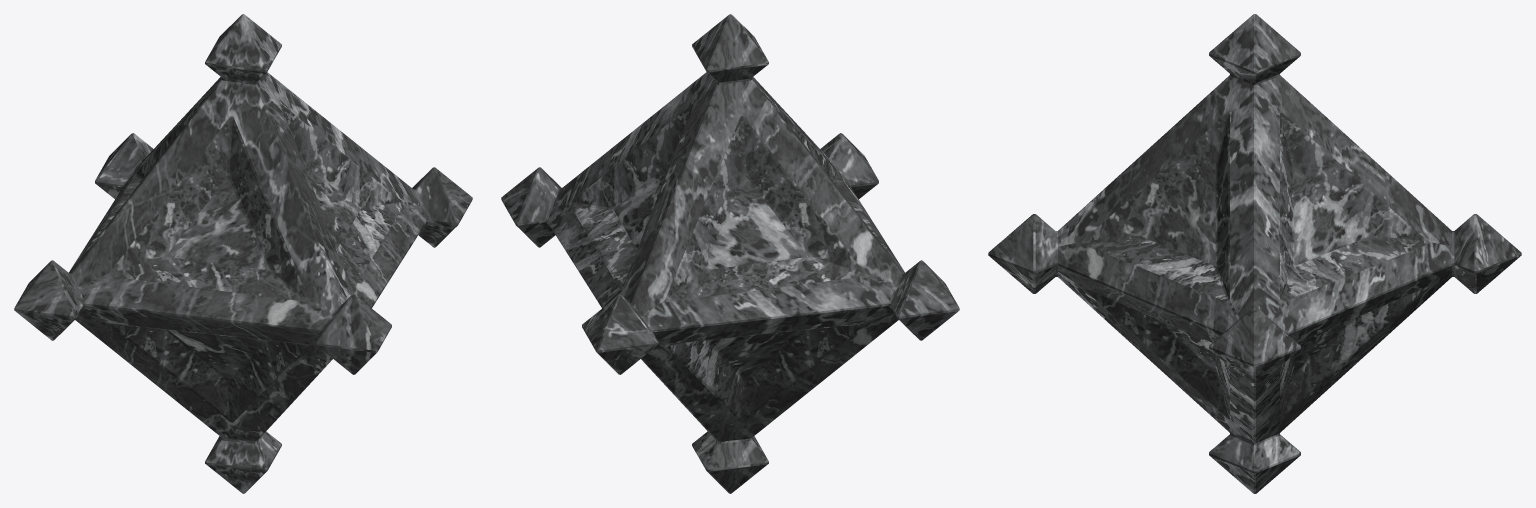
Rendered from bishop.glb.
3 views of the same model, side by side, from view 1: azimuth 30°, elevation 25°; view 2: azimuth 150°, elevation 25°; view 3: azimuth 270°, elevation 25° (orthographic).
Visible parts, largest first — view 1: bishop; view 2: bishop; view 3: bishop.
Part boxes in pixels (x1=…): bishop: x1=14, y1=14, x2=472, y2=493; bishop: x1=501, y1=14, x2=959, y2=493; bishop: x1=988, y1=14, x2=1521, y2=493.
Size of the model in its own units: 3.8 by 3.8 by 3.83.
Materials: 1 (1 with a texture image).
